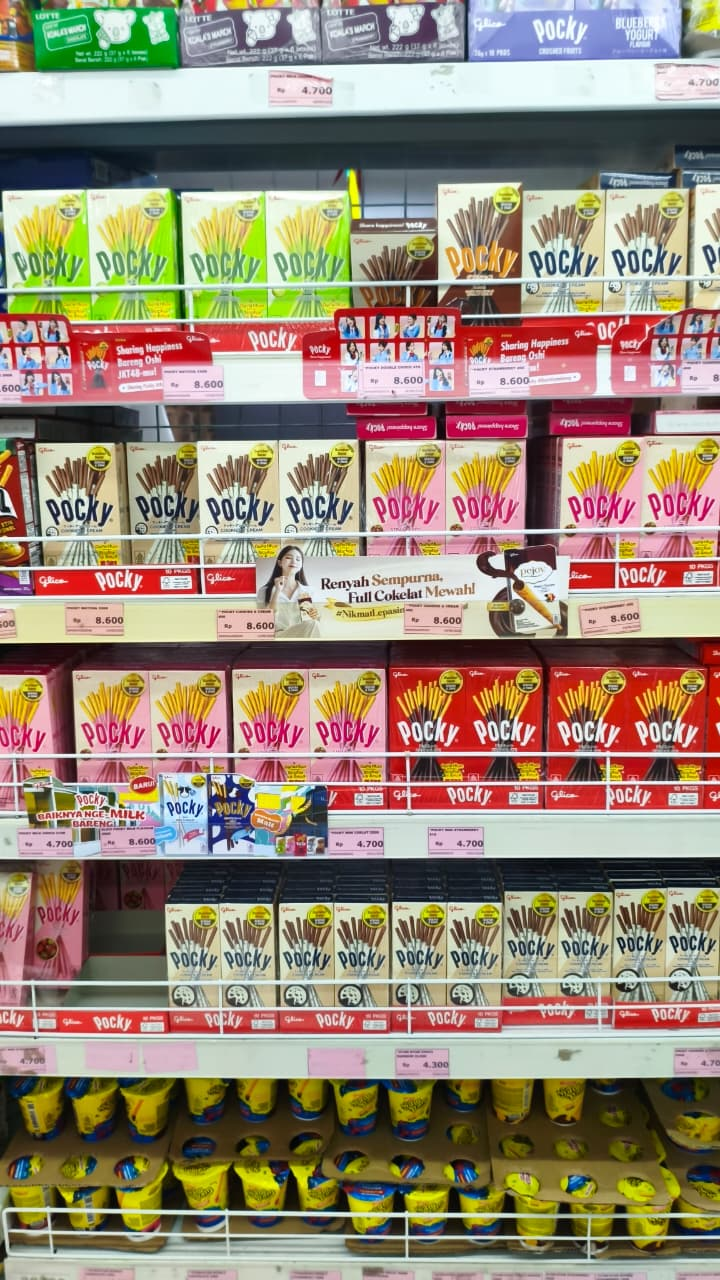Pocky: (385, 664, 467, 789), (282, 441, 364, 566), (629, 662, 711, 787), (547, 661, 629, 786), (465, 658, 547, 783), (437, 199, 519, 324), (605, 196, 687, 321), (522, 198, 604, 323), (635, 436, 717, 561), (559, 429, 641, 554), (446, 434, 528, 559), (367, 431, 449, 556), (36, 445, 118, 570), (9, 204, 91, 329), (88, 208, 170, 333), (185, 204, 267, 329), (266, 204, 348, 329)
